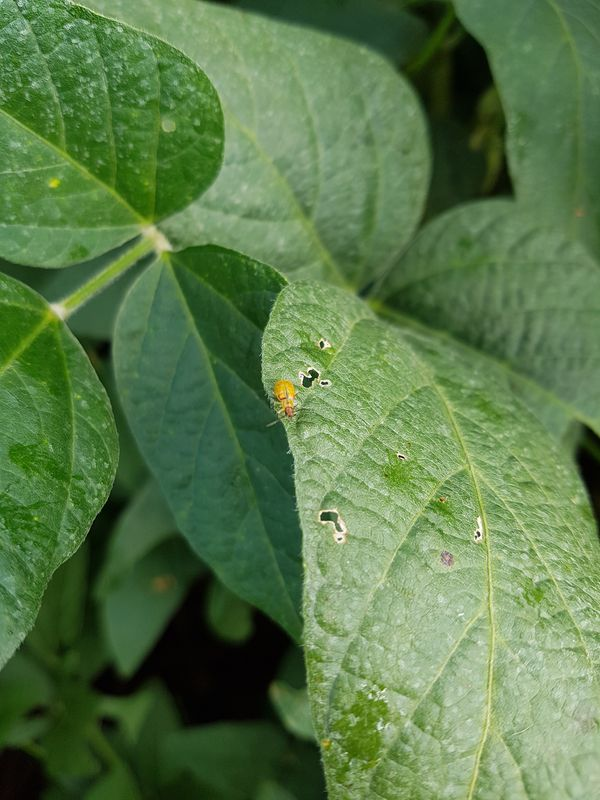Diabrotica_speciosa: (254, 370, 314, 434)
